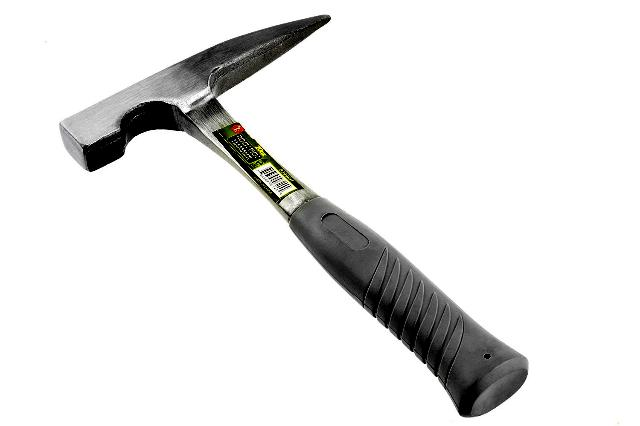hammer: (51, 10, 532, 422)
